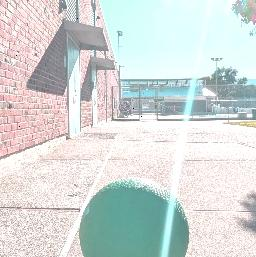algae: (74, 174, 191, 257)
